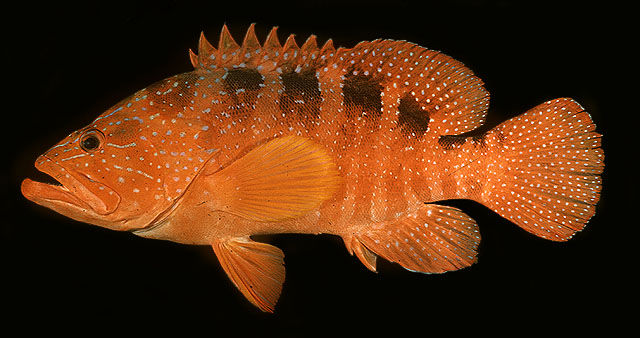fish: (22, 24, 603, 314)
